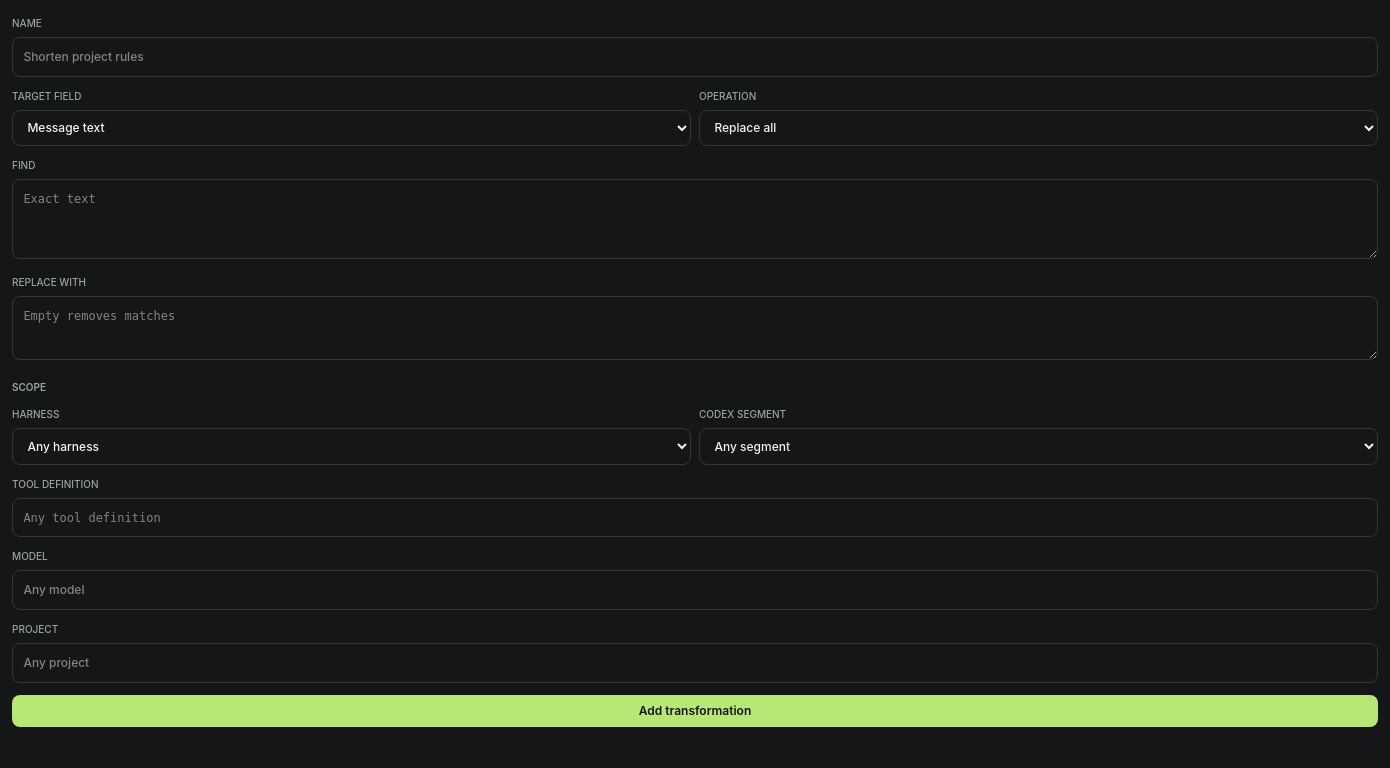
Test: TransformationEditor › preserves the draft and reports a rejected save
Type "Keep my draft" into the field labelled "Name" at (695, 57), box [12,37,1378,77]
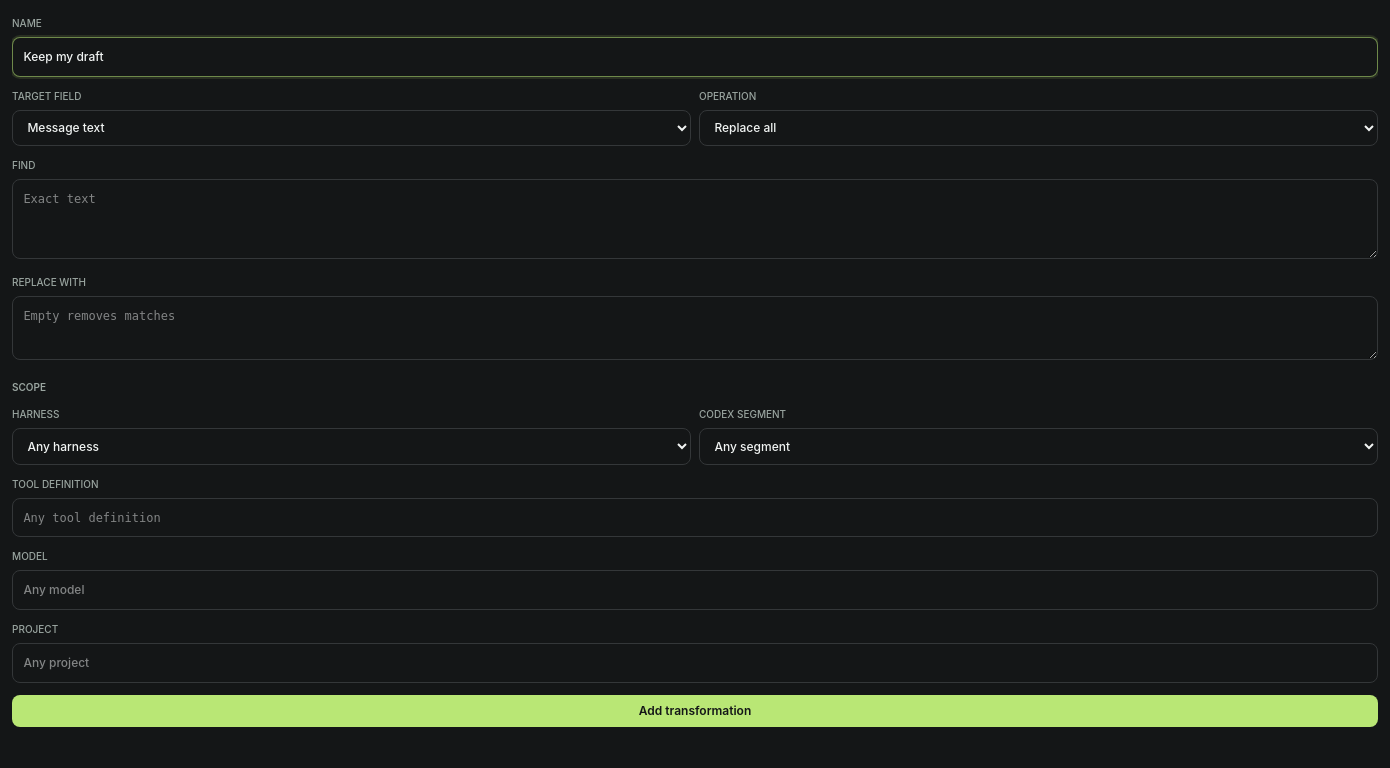
Type "original" into the text box labelled "Find" at (695, 219), box [12,179,1378,259]
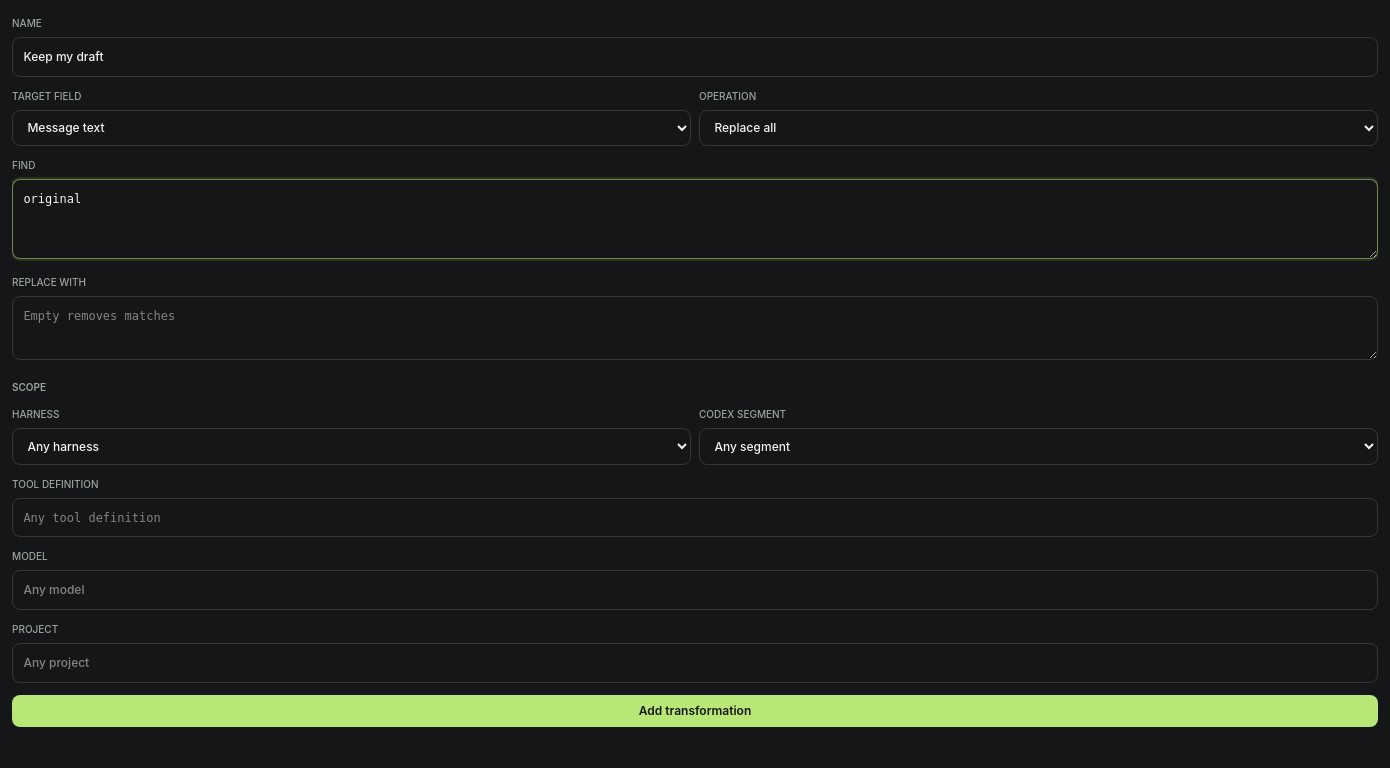
Click the button "Add transformation" at (695, 711), box [12,695,1378,727]
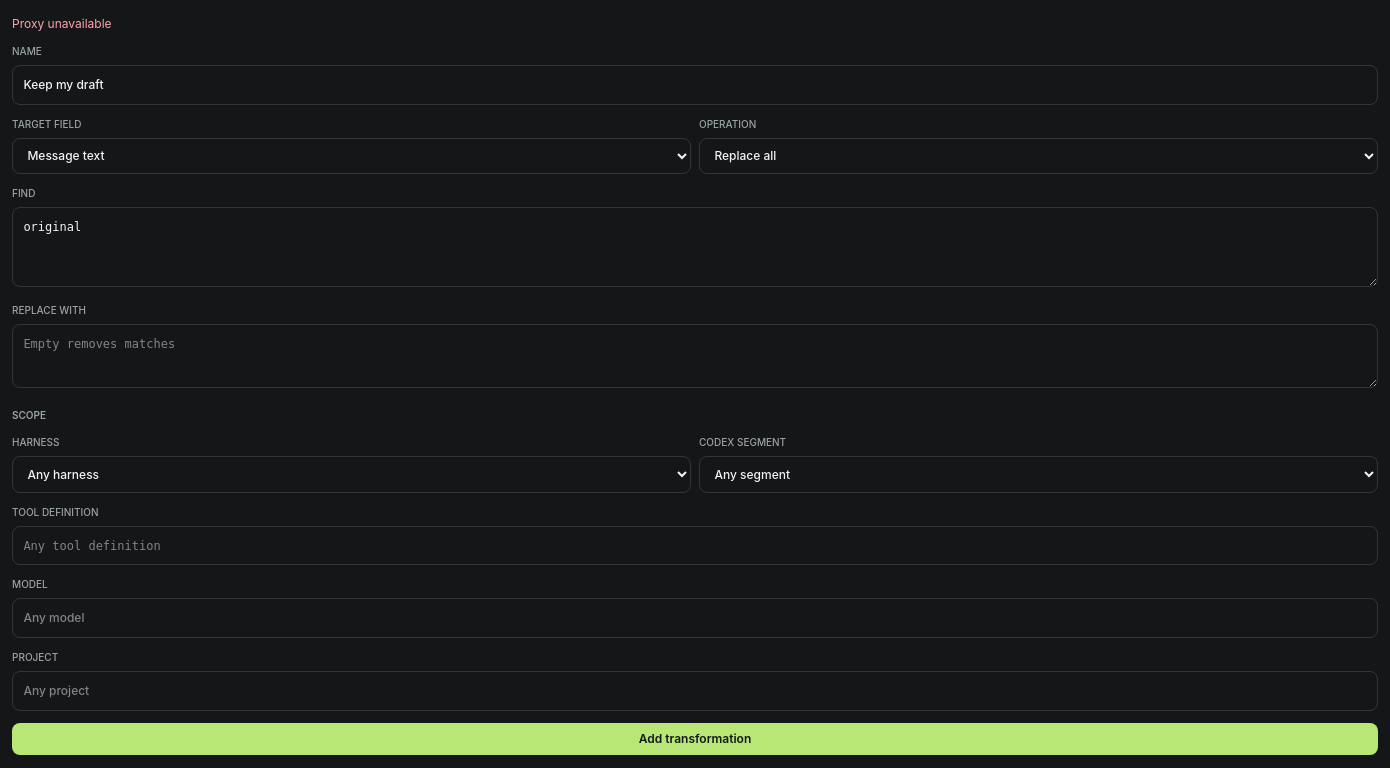
Expected: the message reads "Proxy unavailable", [12,16,112,31]
